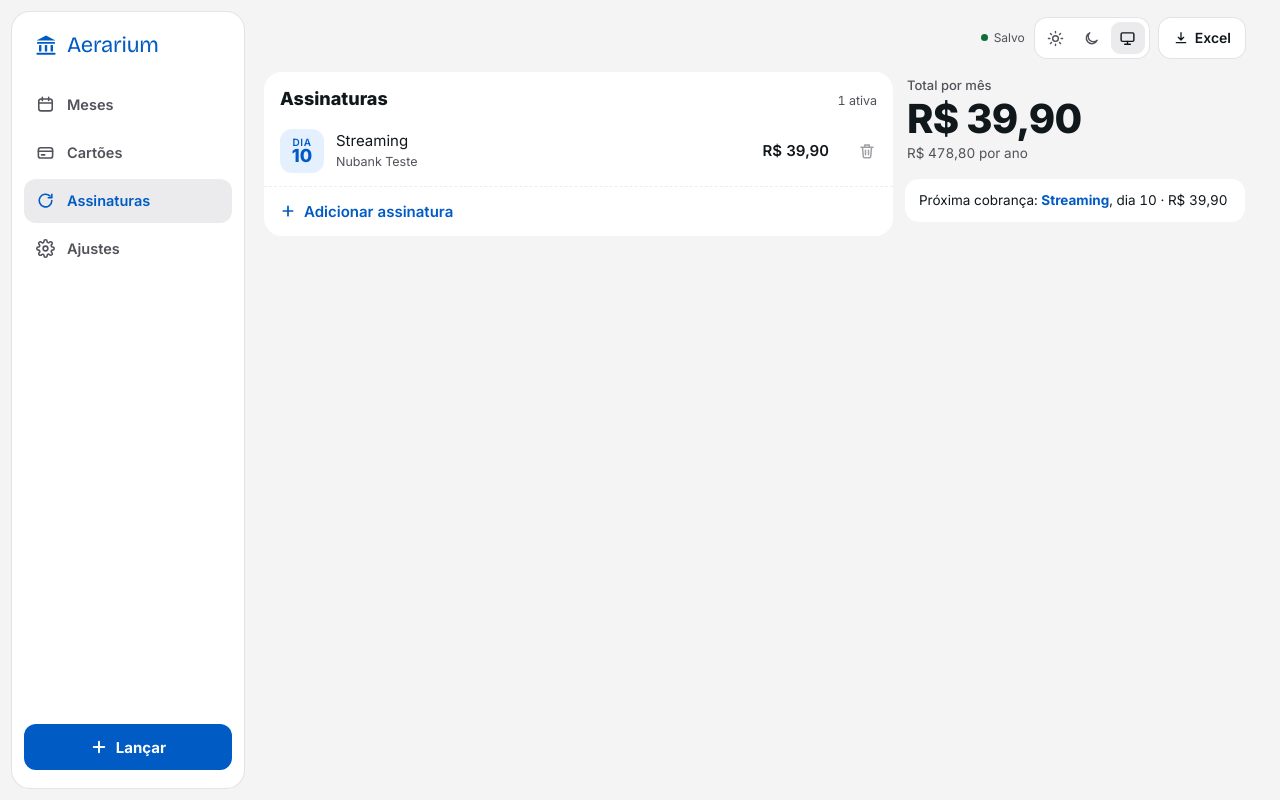
Test: Assinaturas › assinatura antiga sem data conta em todos os meses
The width and height of the screenshot is (1280, 800).
Click the text "Streaming".
click(377, 150)  # box top-left (336, 131), bottom-right (418, 169)
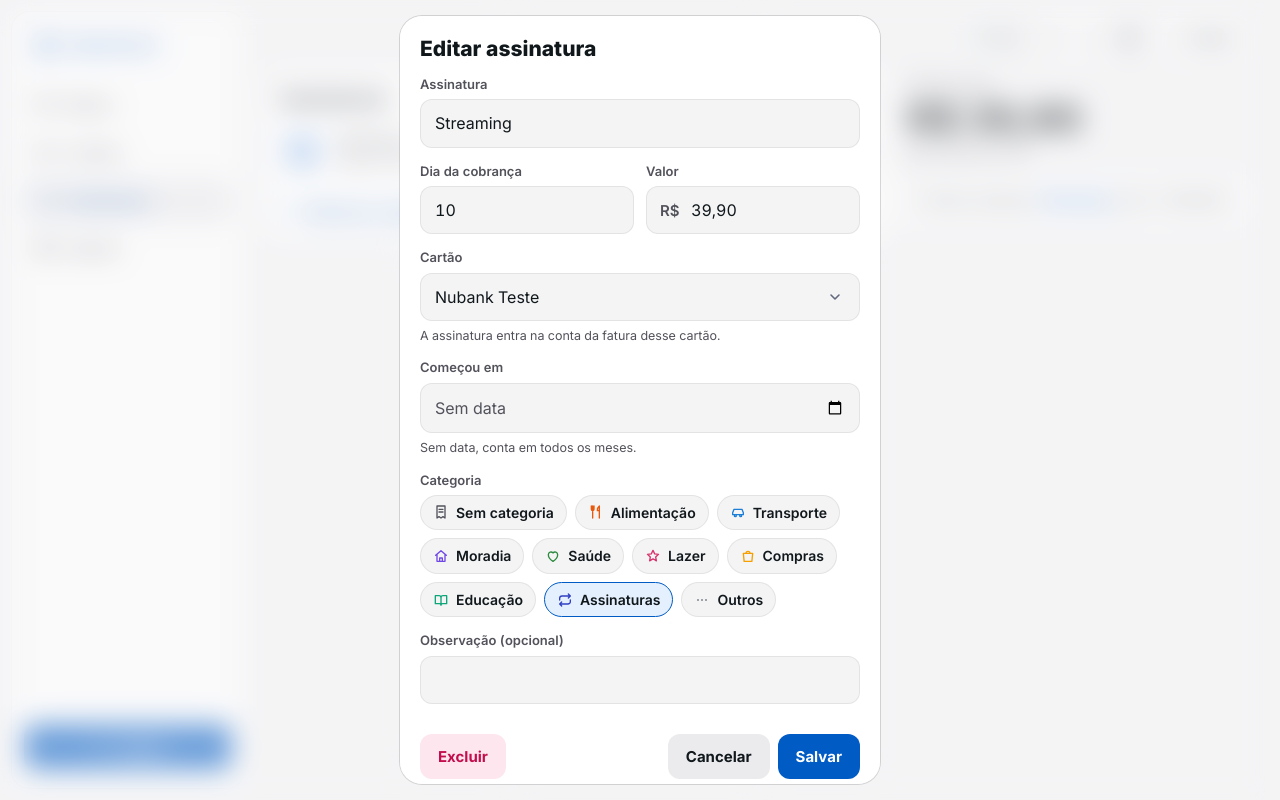
Now the date field labelled "Começou em" is empty, box top-left (420, 383), bottom-right (860, 433)
Now the dialog "Editar assinatura" shows "Sem data, conta em todos os meses.", box top-left (420, 440), bottom-right (636, 455)
